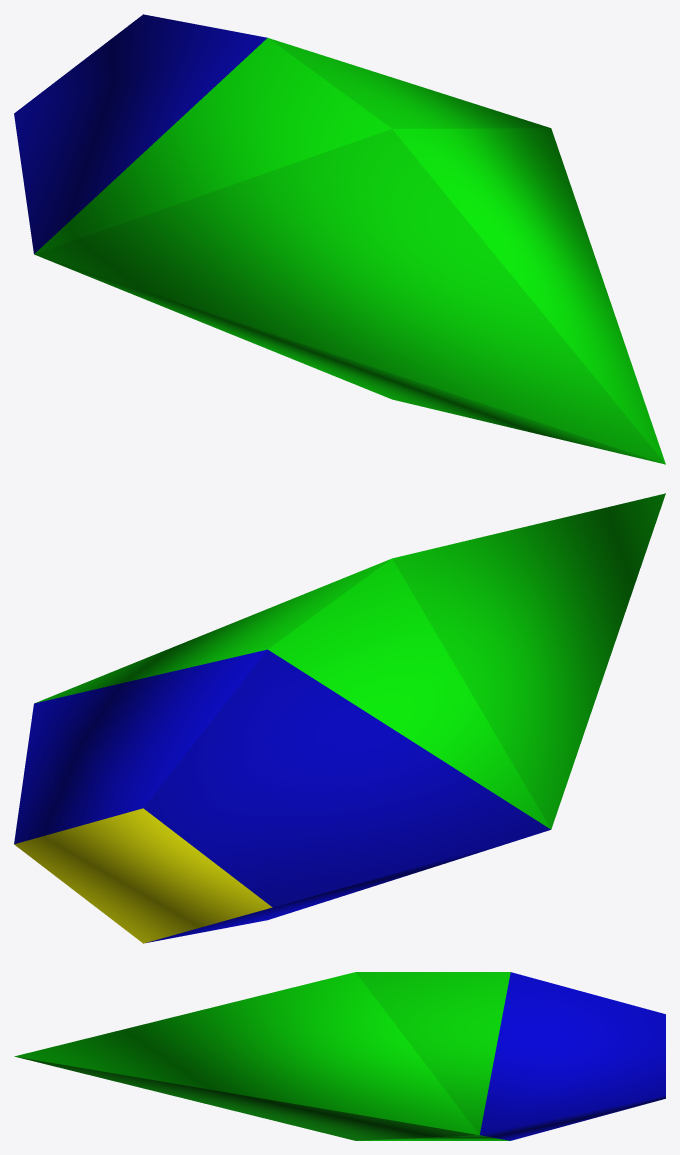
The model's file is python.fbx.
3 views of the same model, one above another, from view 1: azimuth 30°, elevation 25°; view 2: azimuth 150°, elevation 25°; view 3: azimuth 270°, elevation 25° (orthographic). The views are drawn at different scales.
Parts seen in each view (by area): view 1: python; view 2: python; view 3: python.
Boxes of the visible parts, x1=… form: python: x1=14, y1=14, x2=665, y2=464; python: x1=14, y1=493, x2=665, y2=943; python: x1=14, y1=972, x2=665, y2=1140.
Bounding box in the file's own units: 1.92 × 0.96 × 3.36.
